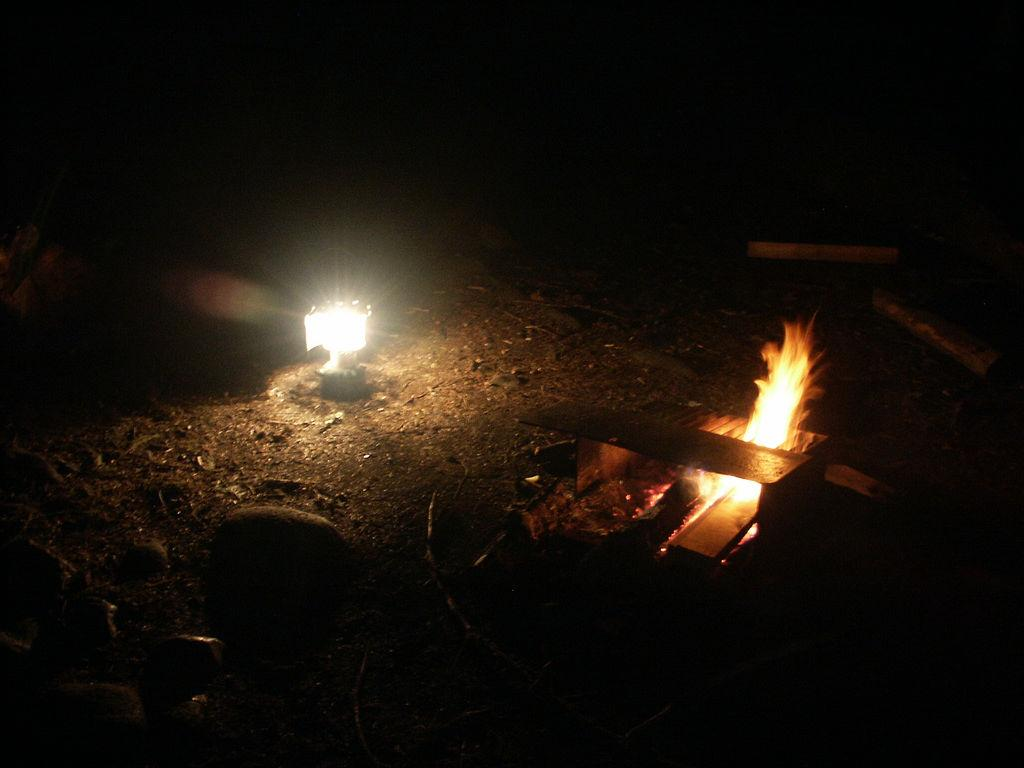fire: (754, 374, 798, 436), (312, 310, 360, 354)
